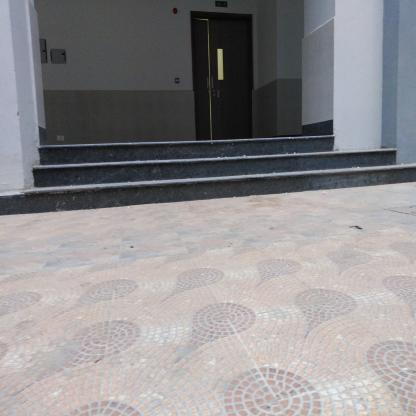stairs: (43, 135, 328, 200)
